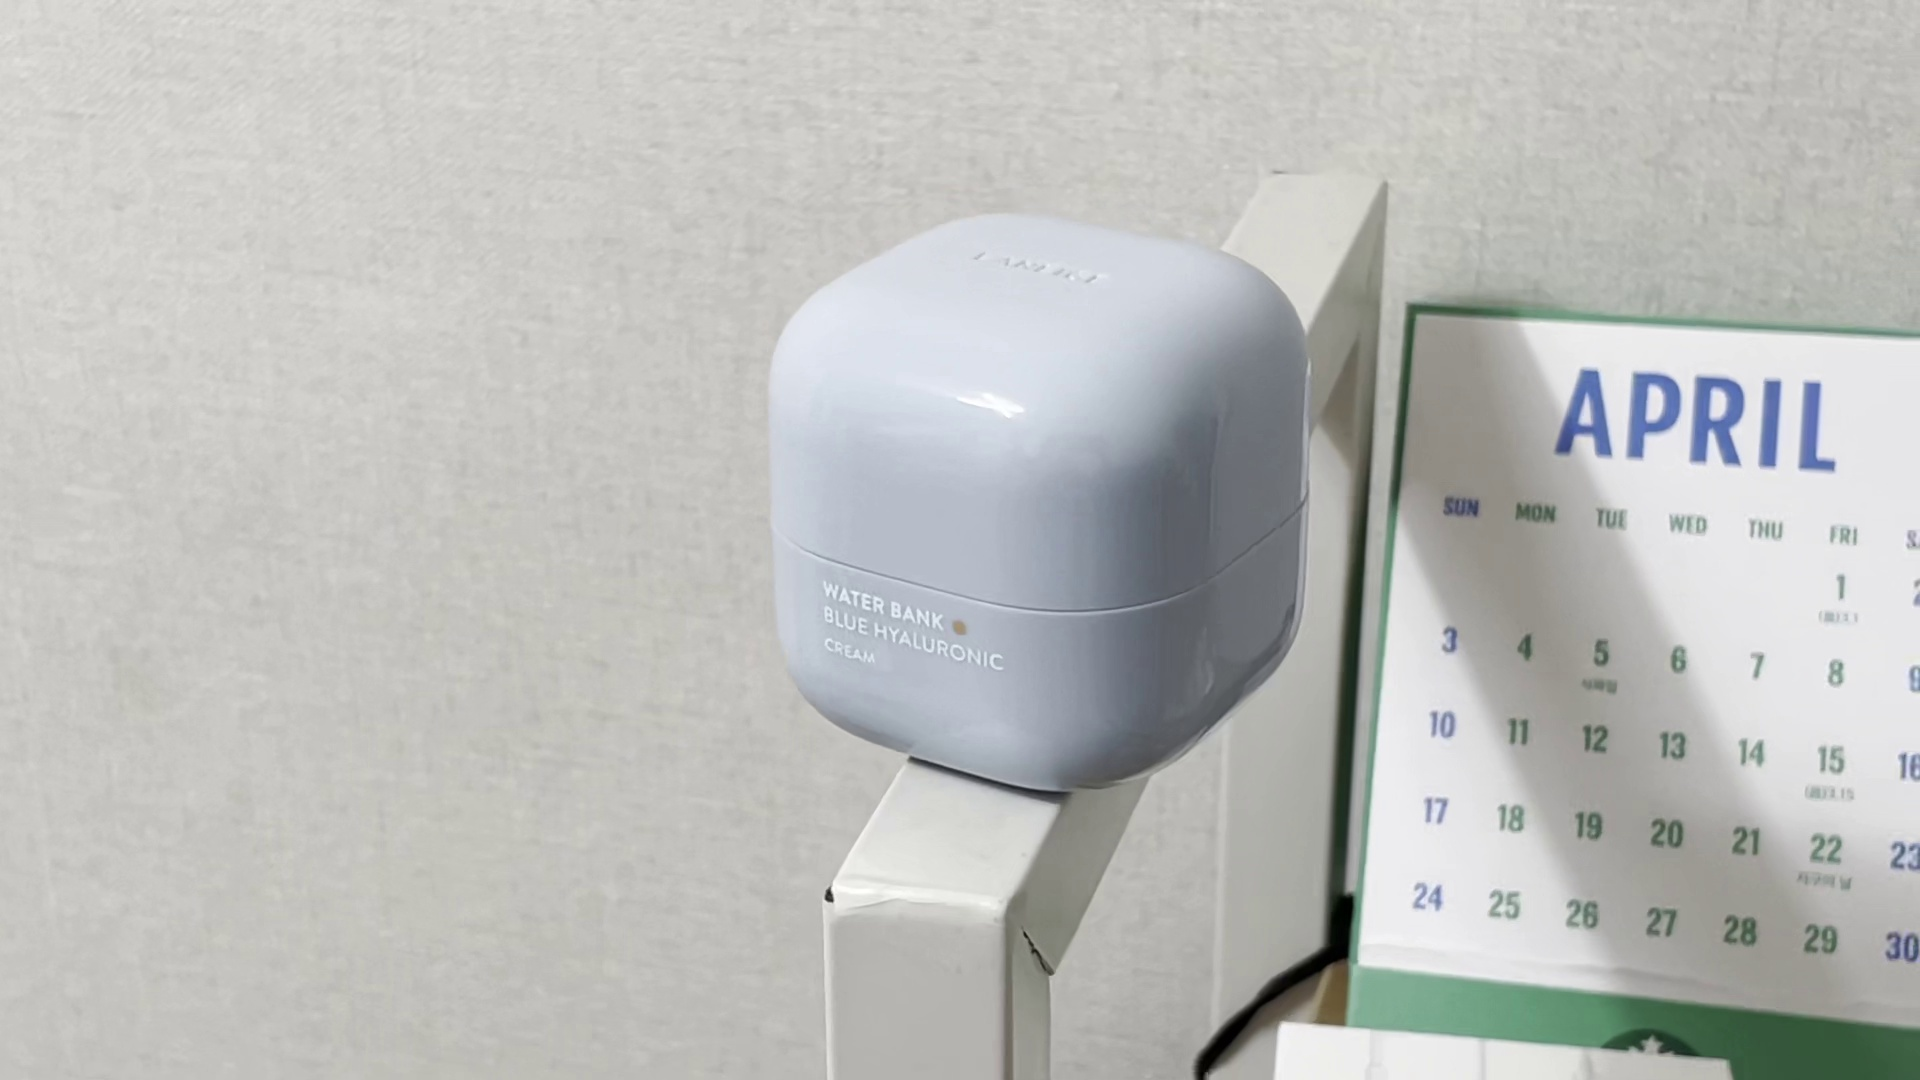cream: (761, 204, 1305, 790)
